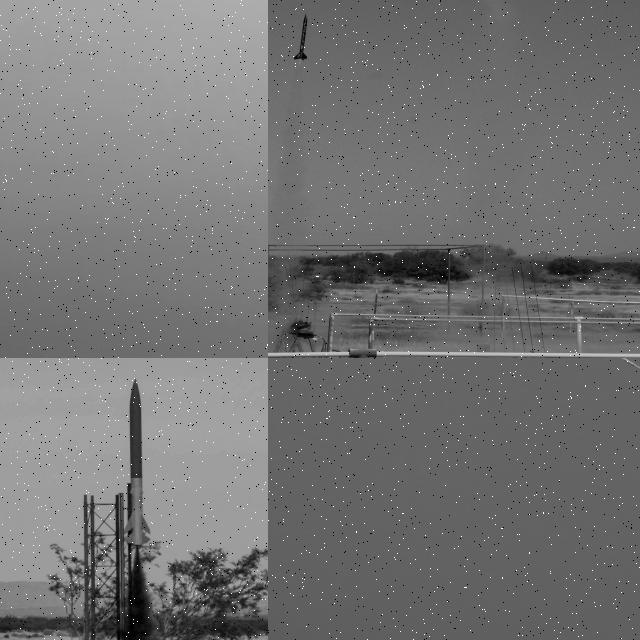Rocket: (122, 378, 152, 547), (294, 14, 308, 60), (621, 358, 640, 370)
